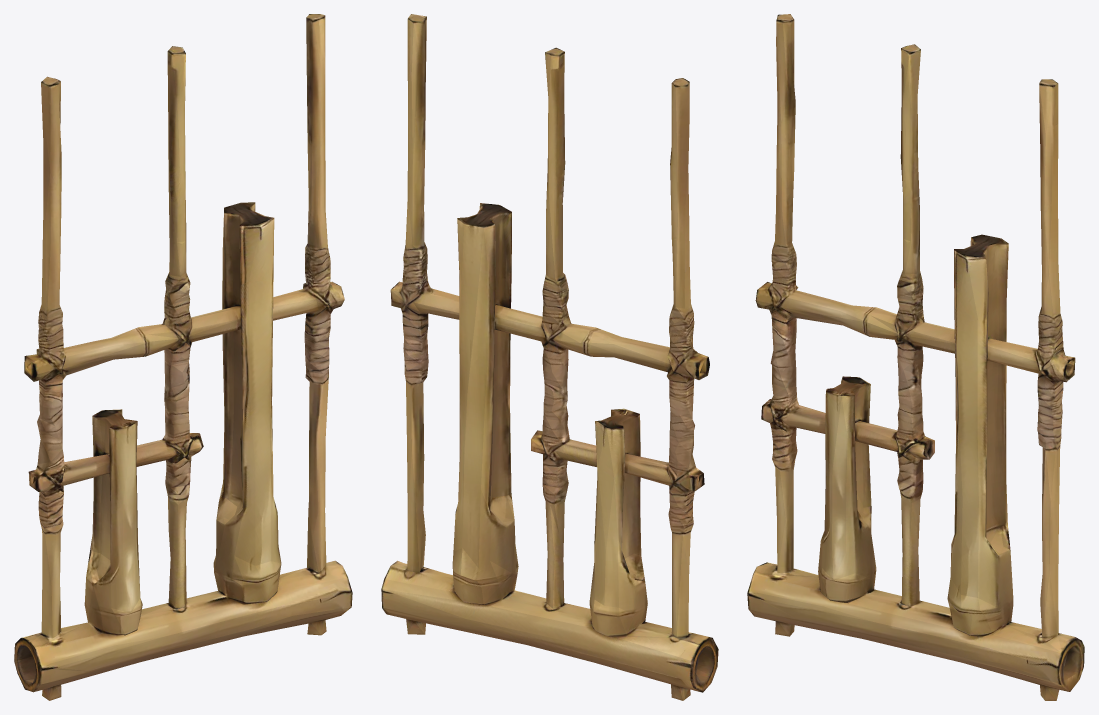
Rendered from angklung.glb.
The picture shows the model from 3 angles, left to right: view 1: azimuth 30°, elevation 25°; view 2: azimuth 150°, elevation 25°; view 3: azimuth 330°, elevation 25°; orthographic projection.
Parts seen in each view (by area): view 1: model; view 2: model; view 3: model.
Part boxes in pixels (x1,y1,x2,y2): model: (14, 14, 352, 700); model: (381, 14, 718, 700); model: (747, 14, 1084, 700).
Size of the model in its own units: 0.9233 by 1.74 by 0.1731.
Materials: 1 (1 with a texture image).
